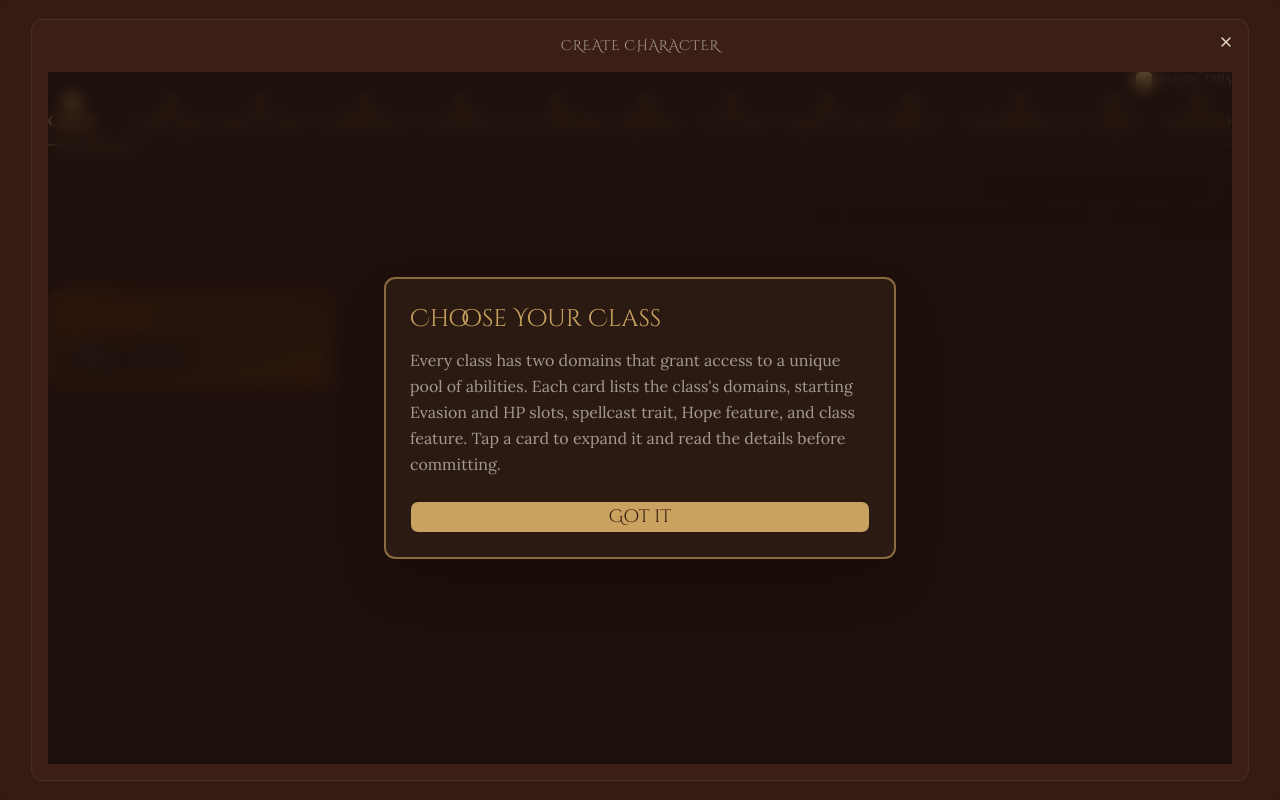
CharacterWizard help popup integration › dismissing the popup hides it without auto-reopening on the same step
This screenshot has width=1280, height=800.
Click the button "Got it" at (640, 517), box [410,501,870,533]
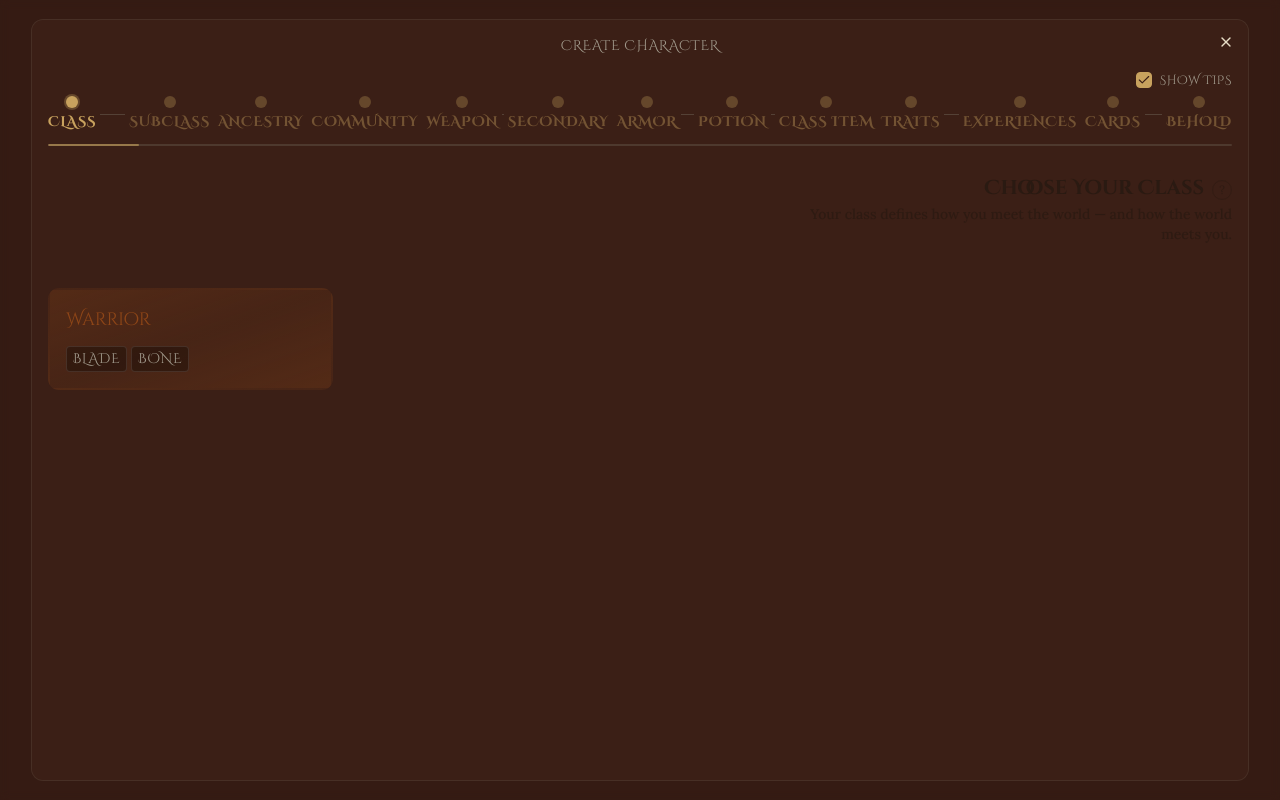
Check: the dialog with test id "help-popup" is gone
